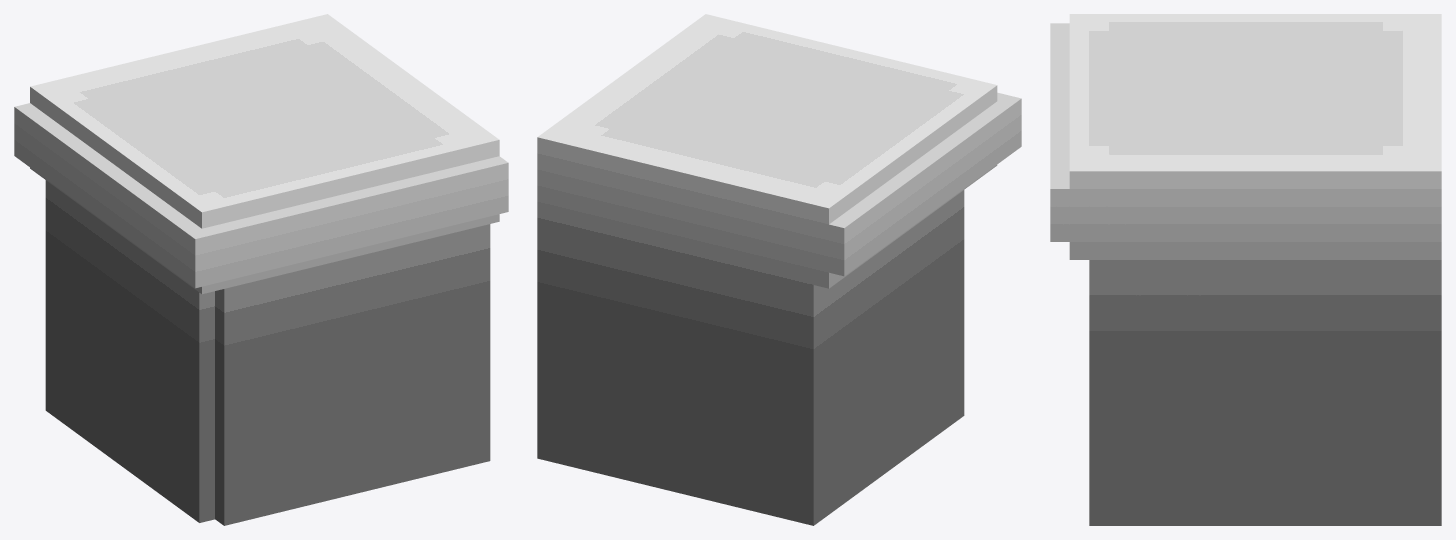
Rendered from full_top_turn.glb.
3 renders of one model, left to right at view 1: azimuth 30°, elevation 25°; view 2: azimuth 150°, elevation 25°; view 3: azimuth 270°, elevation 25°, orthographic. The views are drawn at different scales.
Parts seen in each view (by area): view 1: full_top_turn; view 2: full_top_turn; view 3: full_top_turn.
Boxes of the visible parts, <box> form: full_top_turn: <box>14,14,508,525</box>; full_top_turn: <box>537,14,1021,525</box>; full_top_turn: <box>1050,14,1441,525</box>.
Size of the model in its own units: 2 by 2 by 2.
Materials: 1 (1 with a texture image).
